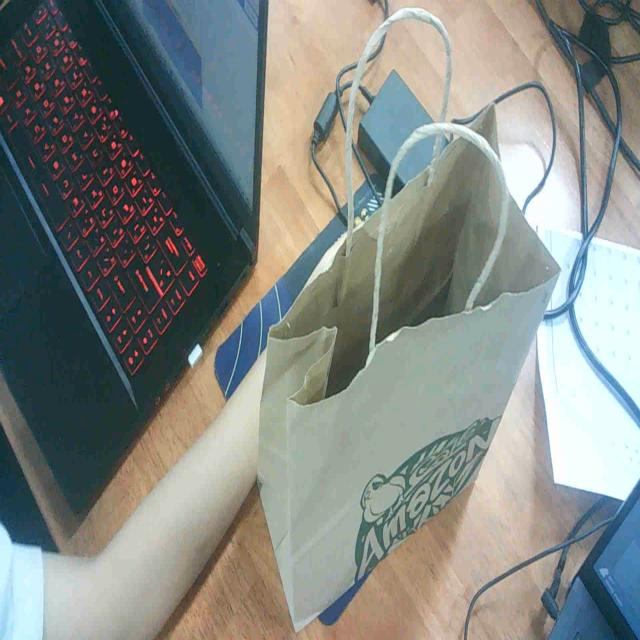bag: (253, 119, 576, 640)
